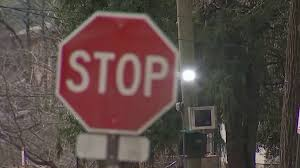Stop: (52, 8, 180, 137)
